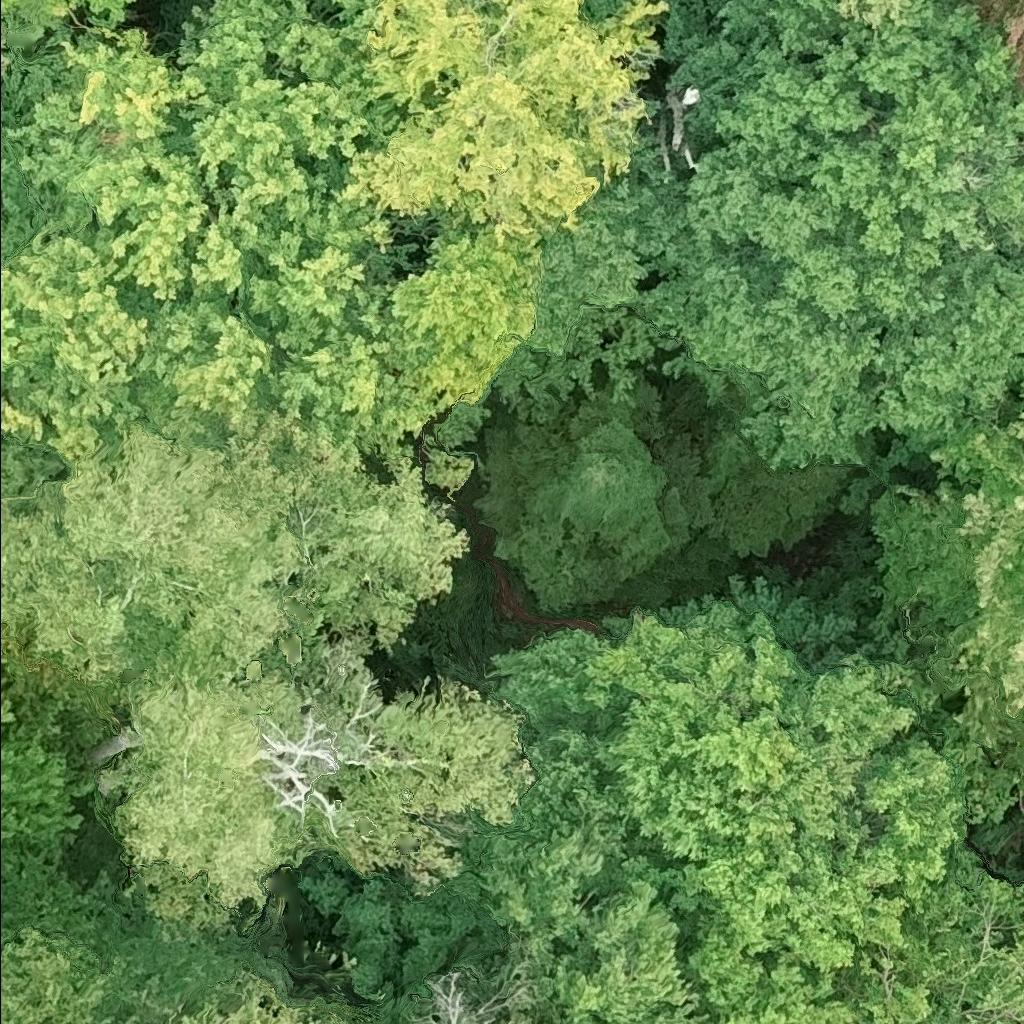crown: (0, 0, 437, 475), (643, 0, 1023, 469), (497, 603, 963, 973), (0, 411, 475, 683), (338, 0, 669, 248), (449, 721, 701, 1023), (872, 377, 1023, 823), (100, 656, 323, 924), (476, 380, 722, 613), (332, 676, 540, 888), (375, 216, 545, 420), (831, 867, 1023, 1023), (675, 933, 861, 1023), (0, 676, 96, 848), (0, 926, 159, 1023), (150, 971, 351, 1023), (410, 966, 533, 1023), (975, 0, 1023, 83), (21, 0, 134, 27), (837, 0, 914, 30), (0, 0, 21, 81)
